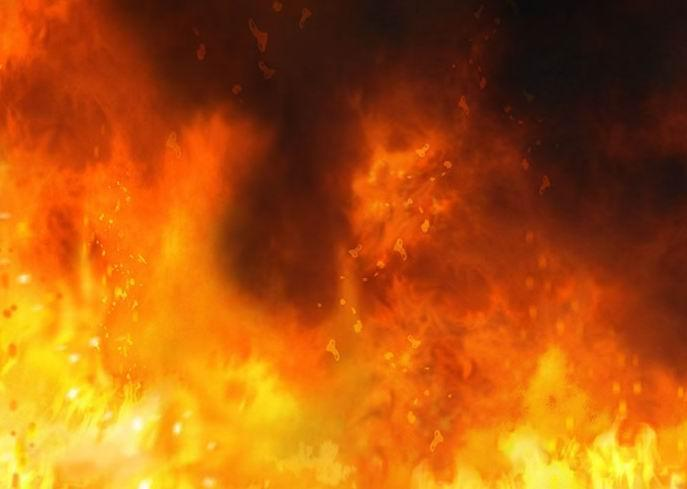fire: (2, 2, 681, 485)
